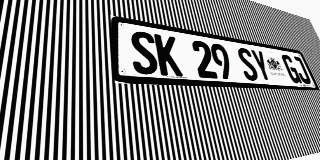2: (191, 40, 218, 79)
9: (209, 42, 235, 80)
G: (280, 54, 302, 84)
J: (291, 56, 312, 84)
K: (154, 34, 183, 77)
S: (129, 30, 160, 75), (235, 47, 260, 81)
Y: (250, 49, 273, 82)
